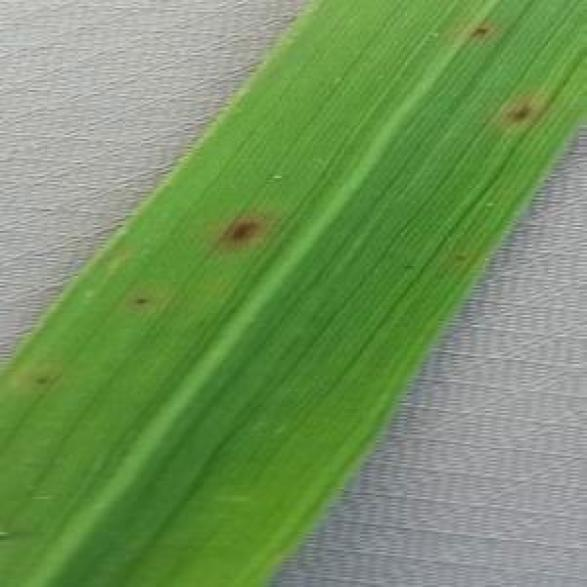Brown_Spot: (203, 200, 274, 256), (489, 92, 542, 129), (462, 12, 497, 45), (260, 162, 290, 186), (125, 290, 155, 311), (395, 254, 421, 278), (448, 247, 470, 270), (29, 370, 49, 389)
